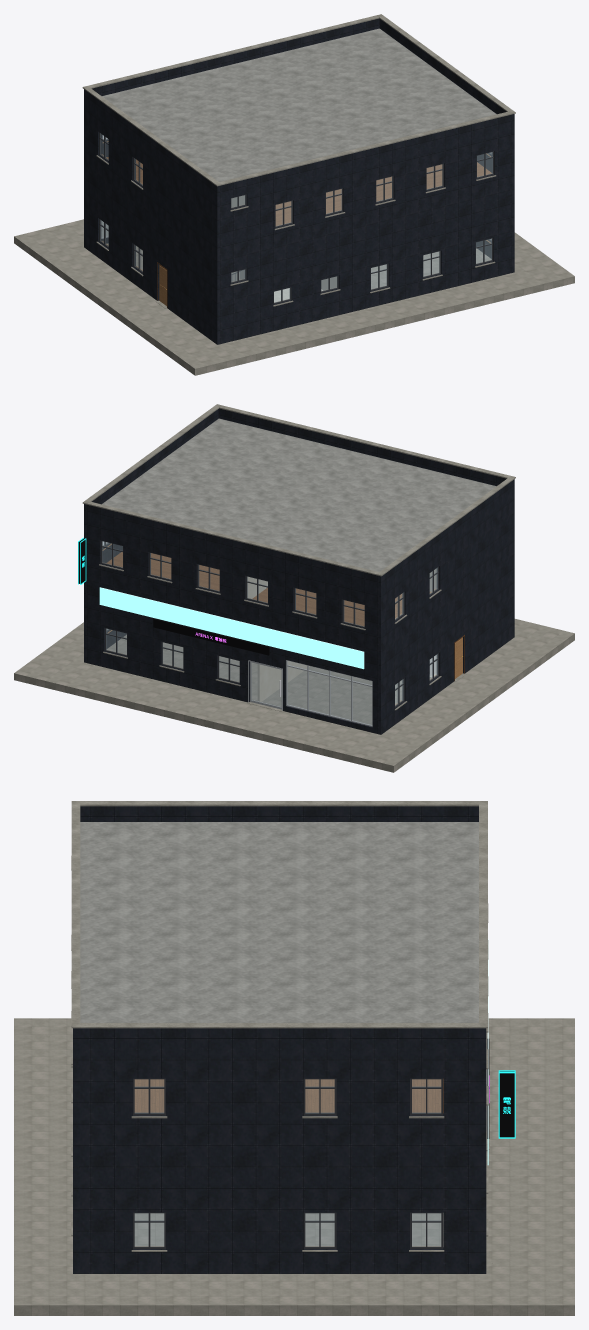
Rendered from b_esports_arena.gltf.
3 views of the same model, one above another, from view 1: azimuth 30°, elevation 25°; view 2: azimuth 150°, elevation 25°; view 3: azimuth 270°, elevation 25° (orthographic). The views are drawn at different scales.
Parts seen in each view (by area): view 1: S_esports_arena; view 2: S_esports_arena, D_esports_arena_F1_S4_Door0; view 3: S_esports_arena.
Part boxes in pixels (x1=…): S_esports_arena: x1=14, y1=14, x2=574, y2=375; S_esports_arena: x1=14, y1=404, x2=574, y2=772; D_esports_arena_F1_S4_Door0: x1=250, y1=661, x2=281, y2=709; S_esports_arena: x1=14, y1=801, x2=574, y2=1315.
Bounding box in the file's own units: 23 × 9.66 × 19.
22 materials, 11 textured.
